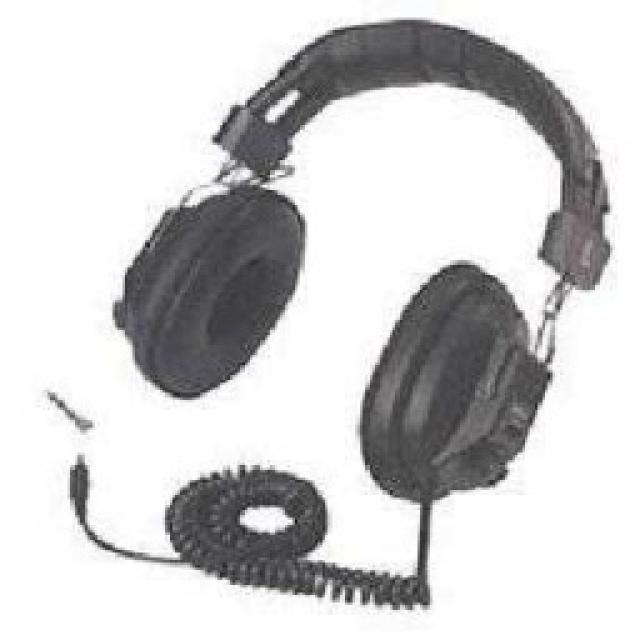kulaklik: (2, 4, 616, 611)
